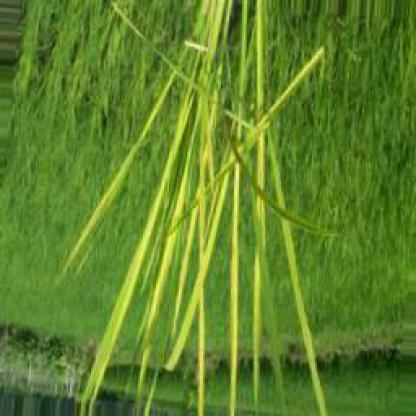Tungro: (62, 17, 211, 274), (82, 96, 196, 411), (126, 125, 196, 406), (159, 141, 240, 378), (268, 136, 333, 414), (250, 3, 273, 401), (263, 40, 325, 139), (196, 66, 211, 415), (204, 3, 256, 97), (232, 126, 242, 414)
